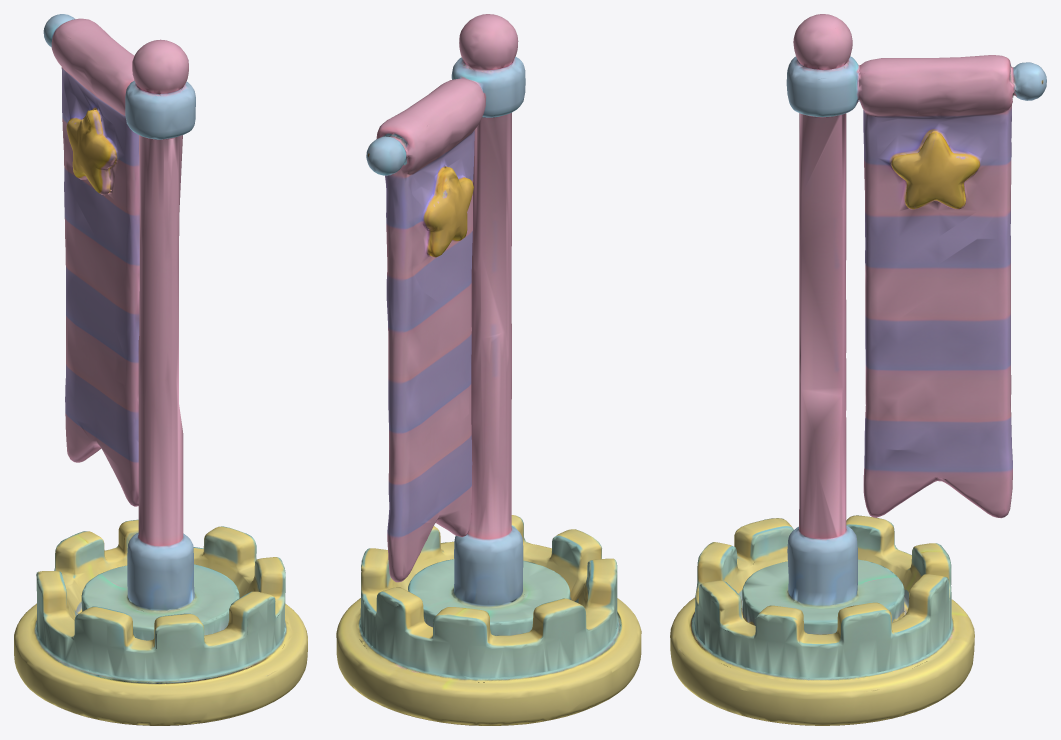
3 renders of one model, left to right at view 1: azimuth 30°, elevation 25°; view 2: azimuth 150°, elevation 25°; view 3: azimuth 270°, elevation 25°, orthographic. The views are drawn at different scales.
Parts seen in each view (by area): view 1: repaired; view 2: repaired; view 3: repaired.
Boxes of the visible parts, x1,y1,x2,y2 form: repaired: [14, 14, 307, 725]; repaired: [336, 14, 641, 725]; repaired: [670, 14, 1046, 725].
Size of the model in its own units: 0.4252 by 0.9995 by 0.5256.
Materials: 1 (1 with a texture image).
